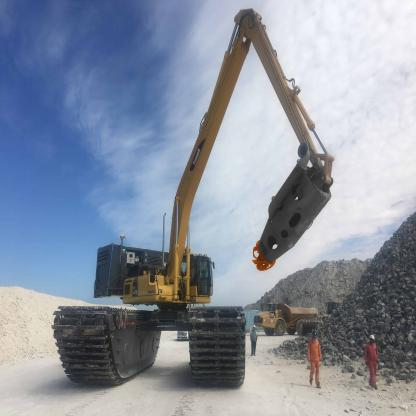excavator: (31, 7, 338, 396)
